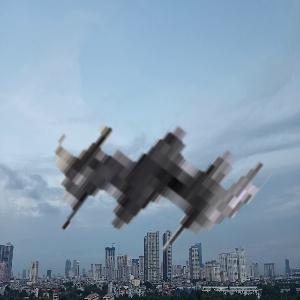drone: (41, 55, 273, 287)
